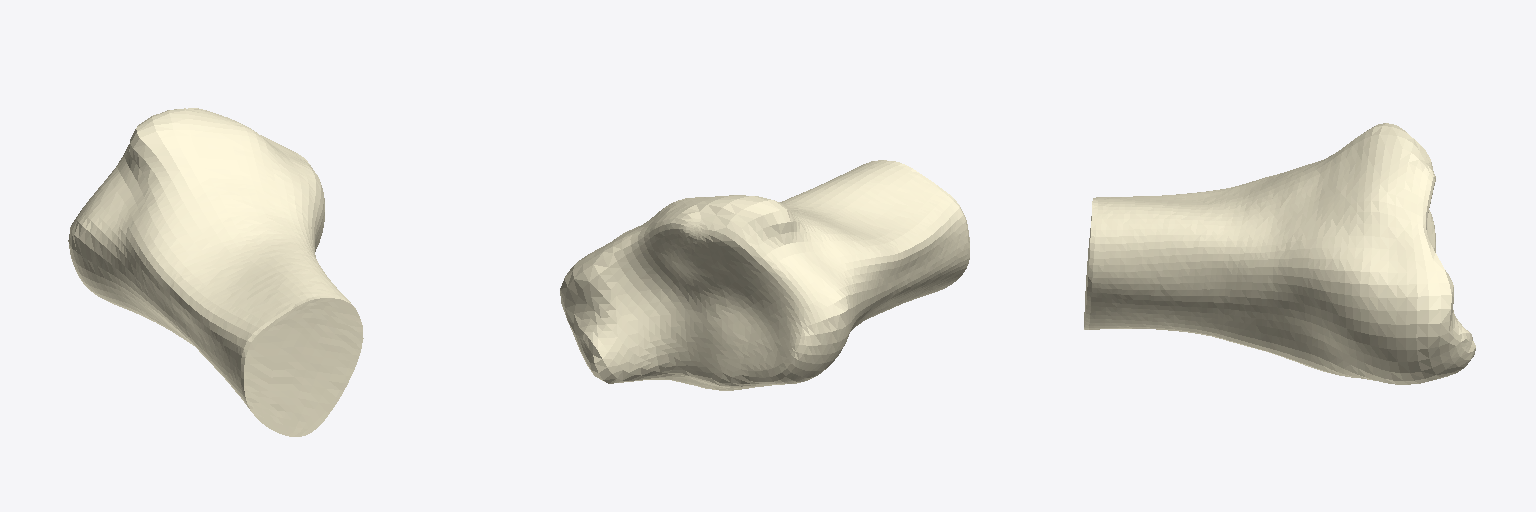
The model's file is Tibia.obj.
The picture shows the model from 3 angles: view 1: azimuth 30°, elevation 25°; view 2: azimuth 150°, elevation 25°; view 3: azimuth 270°, elevation 25°; orthographic projection.
Parts seen in each view (by area): view 1: Object_0Tibia; view 2: Object_0Tibia; view 3: Object_0Tibia.
Boxes of the visible parts, x1=… form: Object_0Tibia: x1=68, y1=108, x2=363, y2=436; Object_0Tibia: x1=560, y1=160, x2=969, y2=390; Object_0Tibia: x1=1084, y1=123, x2=1475, y2=384.
Bounding box in the file's own units: 63 × 49.48 × 82.69.